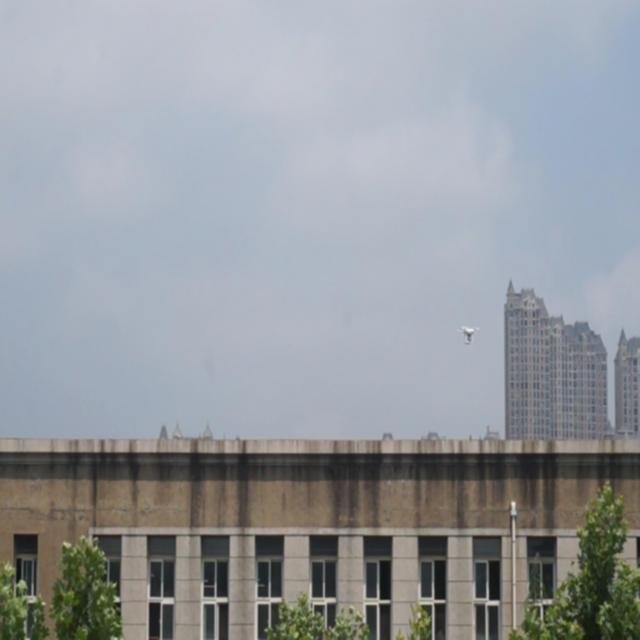UAV: (457, 326, 480, 345)
